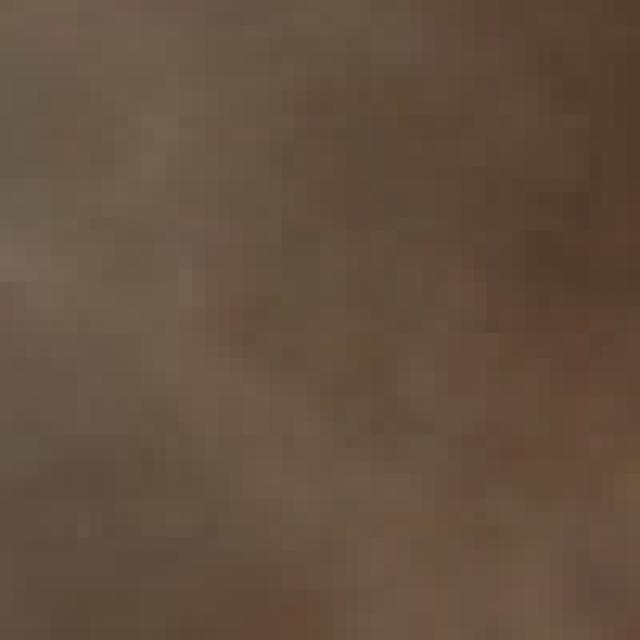fire: (7, 13, 640, 608)
